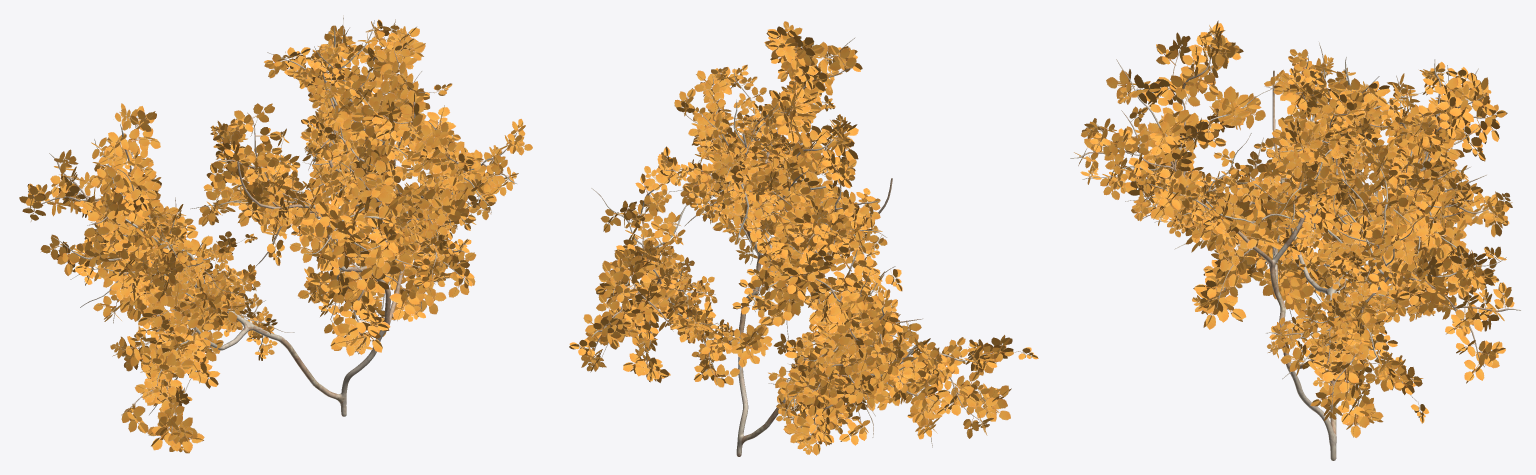
File: Tree_1_5_Orange.fbx
3 renders of one model, left to right at view 1: azimuth 30°, elevation 25°; view 2: azimuth 150°, elevation 25°; view 3: azimuth 270°, elevation 25°, orthographic. The views are drawn at different scales.
Parts seen in each view (by area): view 1: Tree_1_5_Orange_LOD0; view 2: Tree_1_5_Orange_LOD0; view 3: Tree_1_5_Orange_LOD0.
Boxes of the visible parts, bbox=[...] form: Tree_1_5_Orange_LOD0: bbox=[19, 15, 532, 453]; Tree_1_5_Orange_LOD0: bbox=[569, 21, 1038, 456]; Tree_1_5_Orange_LOD0: bbox=[1070, 20, 1520, 460].
Size of what is drawn, in the model's own units: 514 by 529 by 488.
